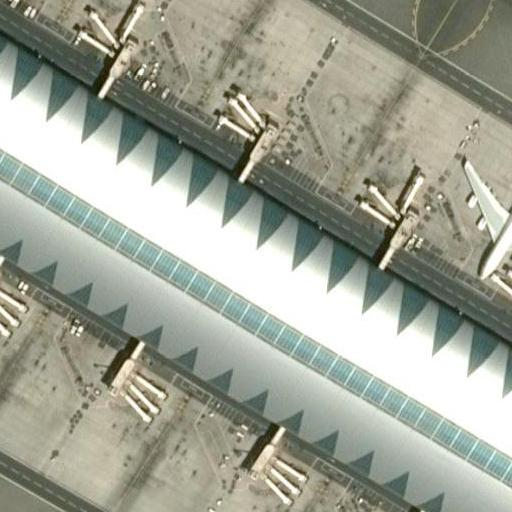Aircraft: (453, 139, 512, 286)
